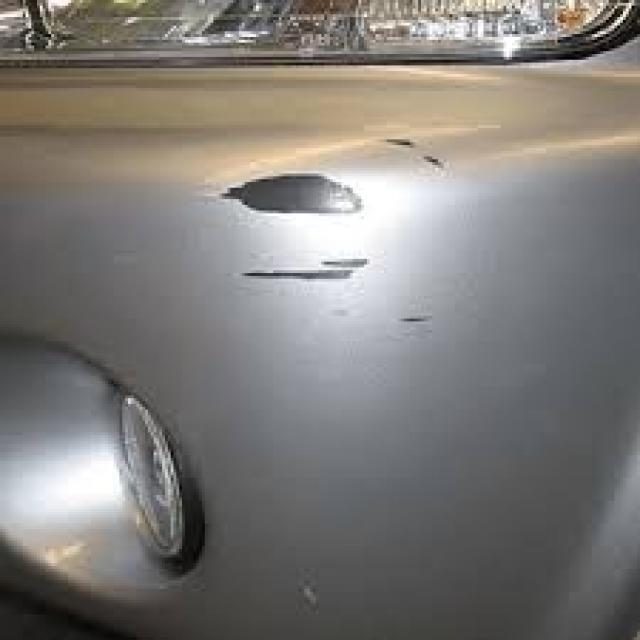dent-or-scratch: (190, 124, 460, 333)
